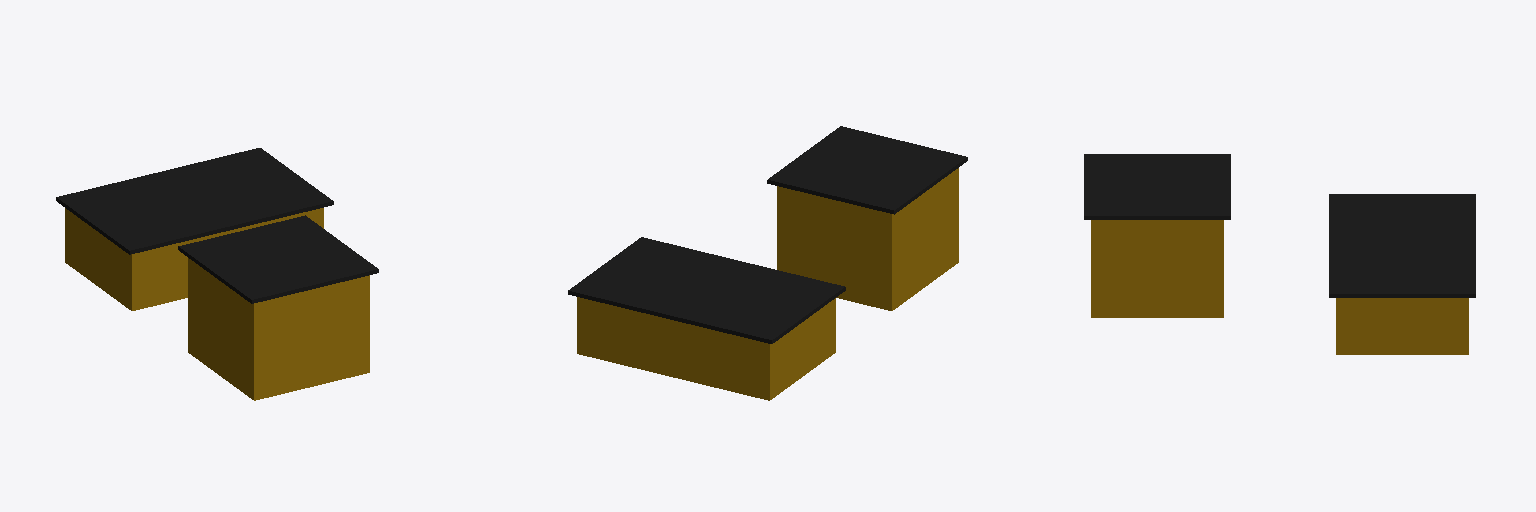
Rendered from map.obj.
The picture shows the model from 3 angles: view 1: azimuth 30°, elevation 25°; view 2: azimuth 150°, elevation 25°; view 3: azimuth 270°, elevation 25°; orthographic projection.
Parts seen in each view (by area): view 1: Cube; view 2: Cube; view 3: Cube.
Part boxes in pixels (bbox=[...]): Cube: bbox=[56, 148, 378, 400]; Cube: bbox=[568, 126, 967, 400]; Cube: bbox=[1084, 154, 1475, 354].
Bounding box in the file's own units: 10.6 × 5.2 × 17.6.